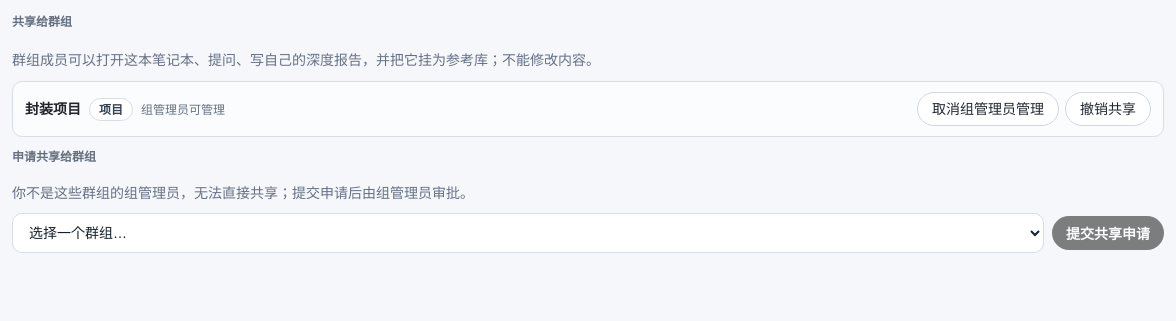
Scenario: 撤销中途失败也要重取清单——不留一个「删了一半」的旧视图
The width and height of the screenshot is (1176, 321).
Expected: the text "封装项目" is shown, [25,99,81,120]
Step 1. Click the button "撤销共享" → point(1108, 109), box [1065,92,1151,126]
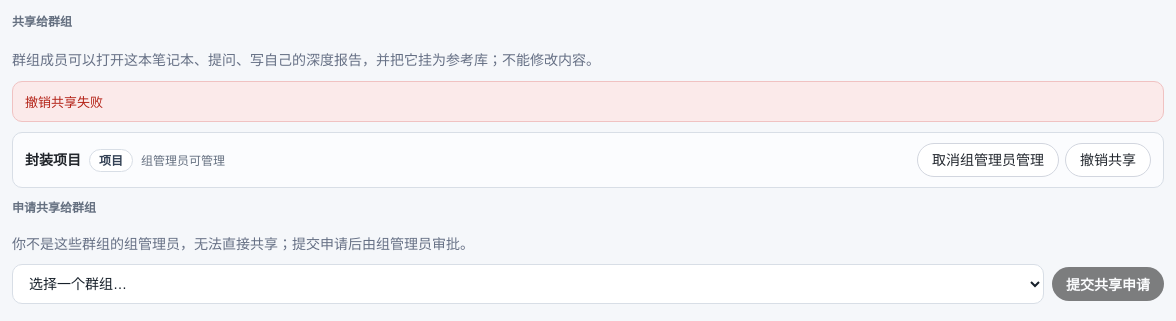
Now the text "撤销共享失败" is shown, box [12,81,1164,122]
